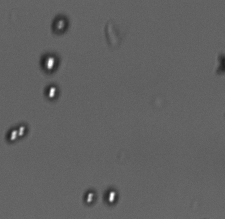Dead Cell: (103, 20, 123, 47)
Living Cell: (39, 52, 63, 74), (50, 13, 70, 35), (43, 83, 60, 100), (104, 187, 118, 206), (83, 188, 97, 206), (6, 126, 20, 143), (17, 122, 28, 137)
